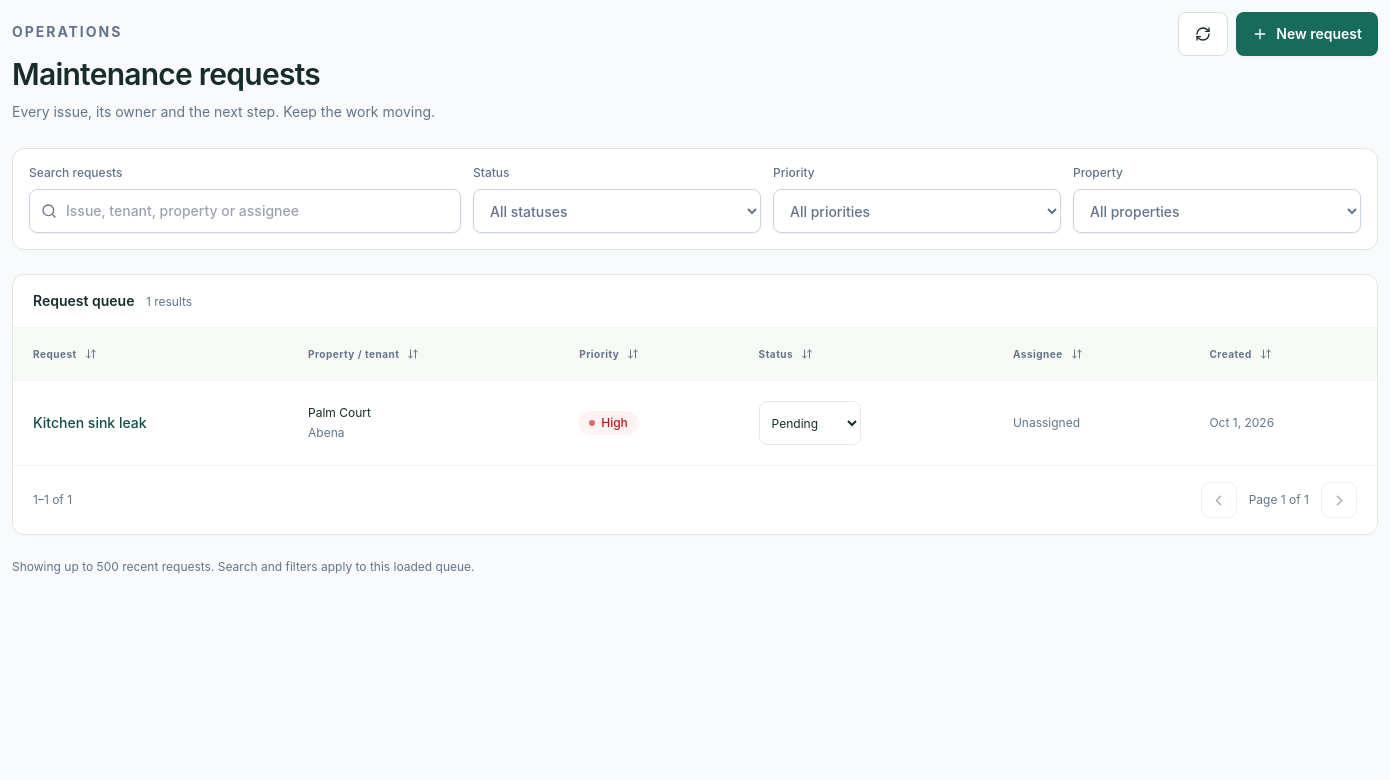
request search has a clear empty state and filter recovery
Expected: the button "Kitchen sink leak" is shown, left=33, top=413, right=147, bottom=433
In the field labelled "Search requests": (245, 211) left=29, top=189, right=461, bottom=233, type "no such repair"
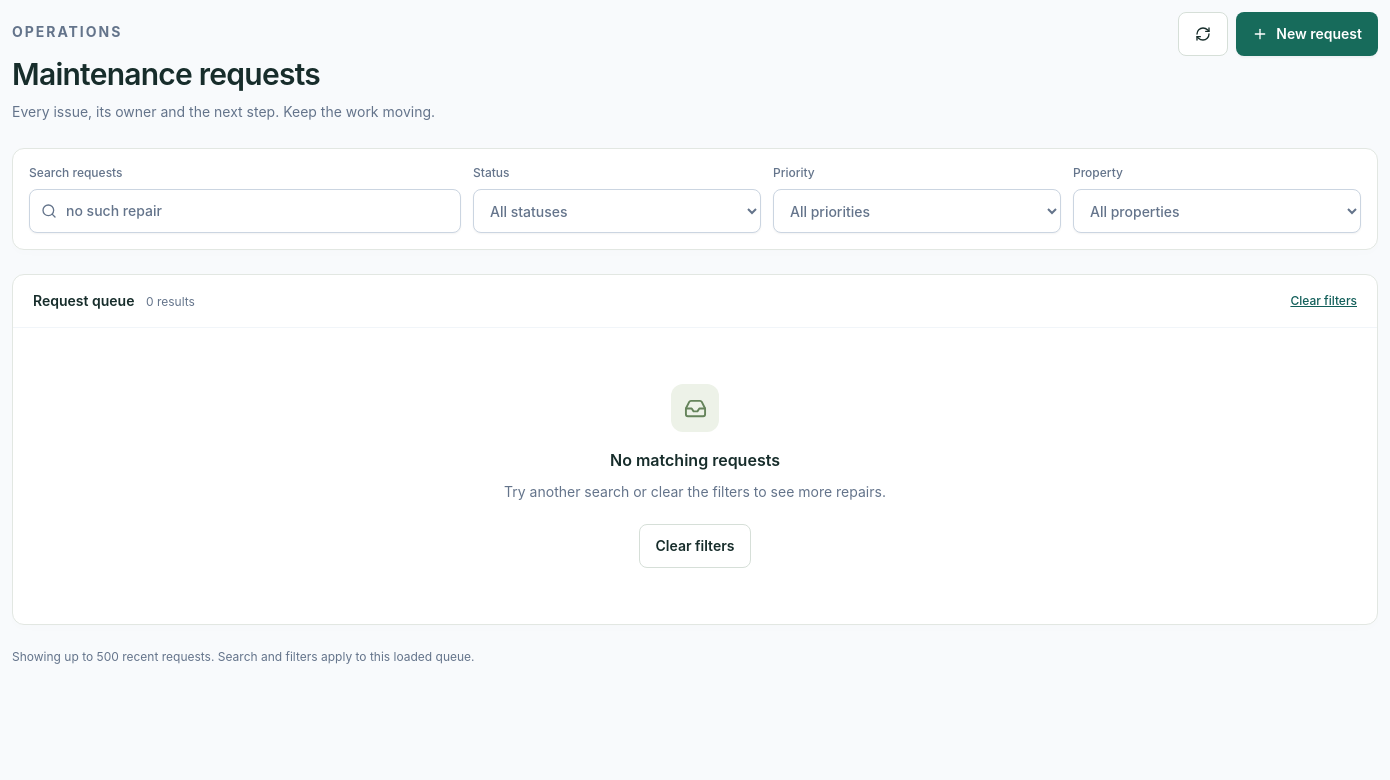
Result: the heading "No matching requests" is shown at left=610, top=450, right=780, bottom=470
Click the button "Clear filters" in the row of "0 results": (1324, 301) left=1290, top=293, right=1357, bottom=309
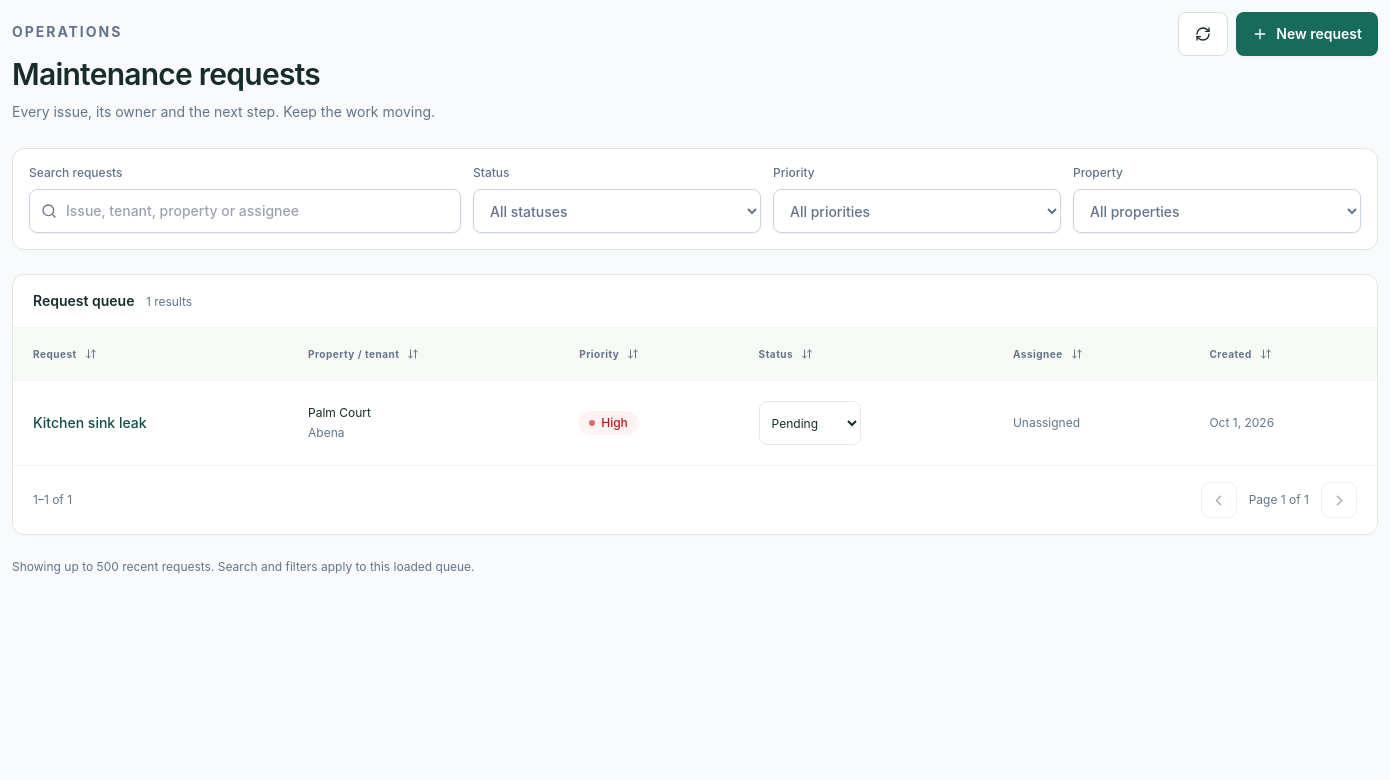
Result: the button "Kitchen sink leak" is shown at left=33, top=413, right=147, bottom=433
